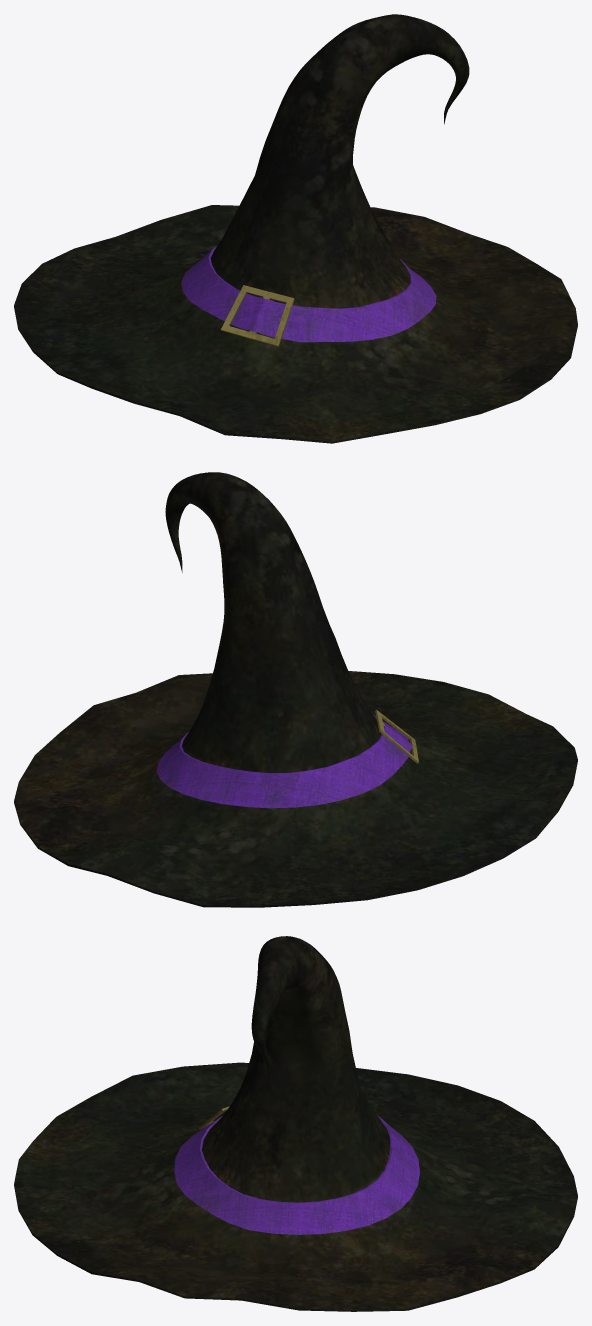
Rendered from witch.glb.
The picture shows the model from 3 angles, top to bottom: view 1: azimuth 30°, elevation 25°; view 2: azimuth 150°, elevation 25°; view 3: azimuth 270°, elevation 25°; orthographic projection.
Parts seen in each view (by area): view 1: hat_hat_0; view 2: hat_hat_0; view 3: hat_hat_0.
Part boxes in pixels (box(x1,y1,x2,y2)): hat_hat_0: box(14, 14, 577, 443); hat_hat_0: box(14, 472, 577, 907); hat_hat_0: box(14, 936, 577, 1311).
Bounding box in the file's own units: 5.21 × 3.11 × 5.32.
Materials: 1 (1 with a texture image).
